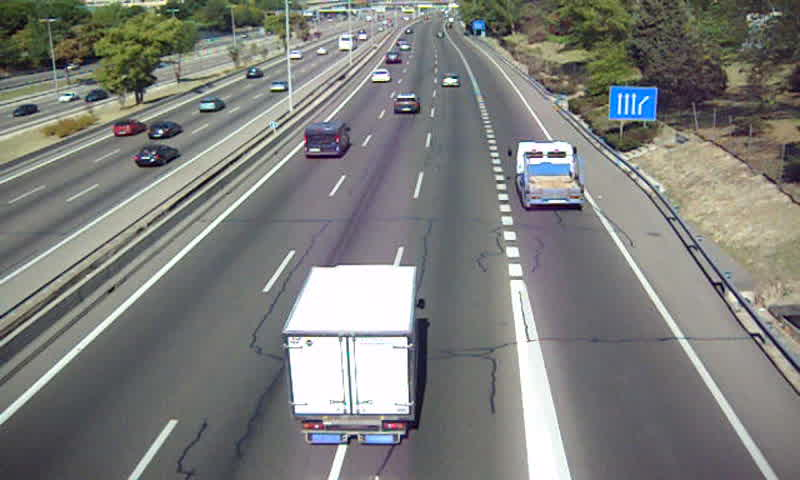car: (393, 93, 420, 116), (369, 69, 390, 85), (441, 74, 461, 90)
small-truck: (287, 264, 421, 443), (515, 139, 585, 210)
van: (303, 122, 350, 160)
